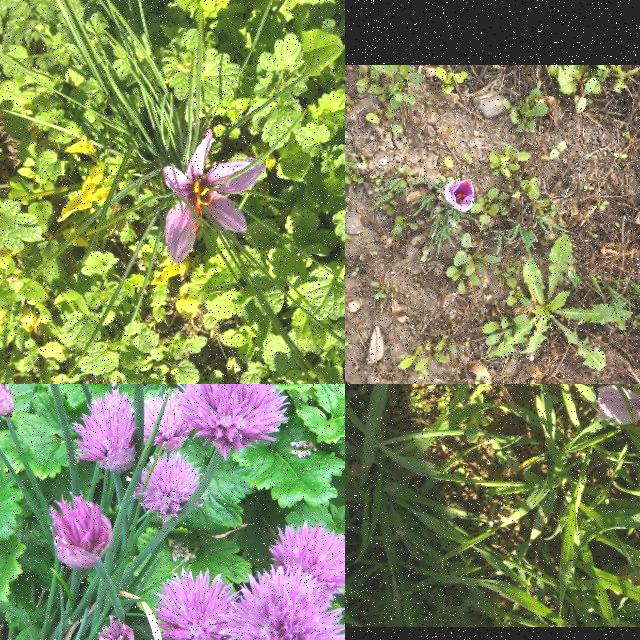flower: (162, 130, 268, 264), (442, 179, 476, 213)
